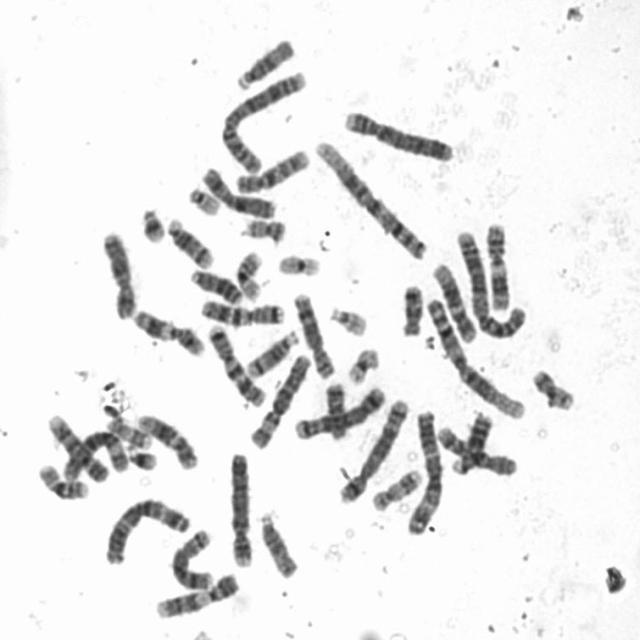A1: (308, 131, 431, 262), (418, 289, 527, 421)
A2: (216, 63, 310, 175), (449, 223, 530, 340)
A3: (98, 490, 192, 566), (401, 404, 445, 537)
B4: (337, 102, 456, 163), (224, 445, 254, 569)
B5: (332, 390, 411, 504), (289, 378, 389, 442)
C10: (430, 418, 520, 478), (229, 141, 313, 195)
C11: (127, 301, 208, 358), (480, 215, 513, 313)
C12: (426, 254, 480, 344), (131, 406, 200, 471)
C6: (244, 346, 313, 451), (56, 424, 130, 482)
C7: (202, 316, 268, 408), (195, 292, 287, 327)
C8: (288, 285, 338, 380), (165, 522, 216, 592)
C9: (42, 406, 111, 484), (150, 565, 242, 621)
D13: (446, 405, 495, 476), (184, 262, 245, 306)
D14: (240, 323, 301, 379), (161, 210, 216, 270)
D15: (230, 30, 298, 91), (253, 503, 300, 580)
E16: (30, 456, 91, 501), (230, 243, 266, 302)
E17: (365, 462, 425, 514), (98, 408, 154, 449)
E18: (320, 376, 351, 441), (395, 276, 426, 338)
F19: (341, 340, 382, 386), (271, 246, 324, 278)
F20: (526, 360, 577, 412), (236, 212, 288, 244)
G21: (133, 199, 168, 245), (122, 440, 160, 472)
G22: (323, 298, 370, 337), (182, 180, 222, 217)
X: (196, 158, 278, 220), (95, 223, 138, 321)
